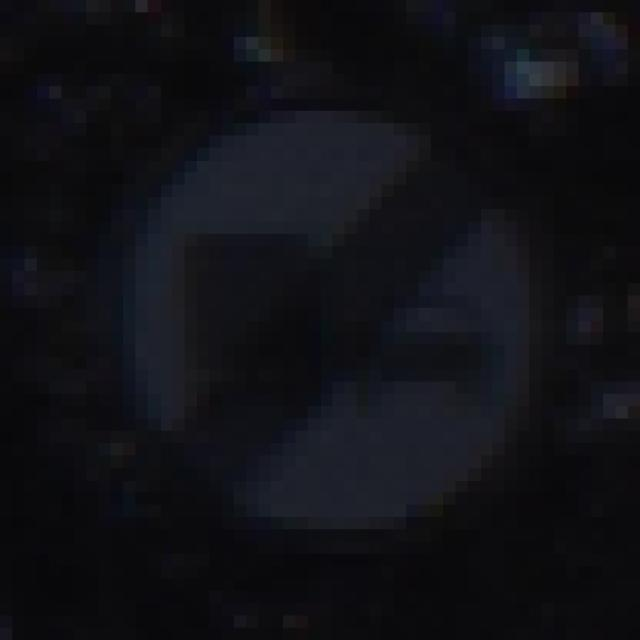Overtaking by trucks is prohibited: (61, 86, 578, 554)
